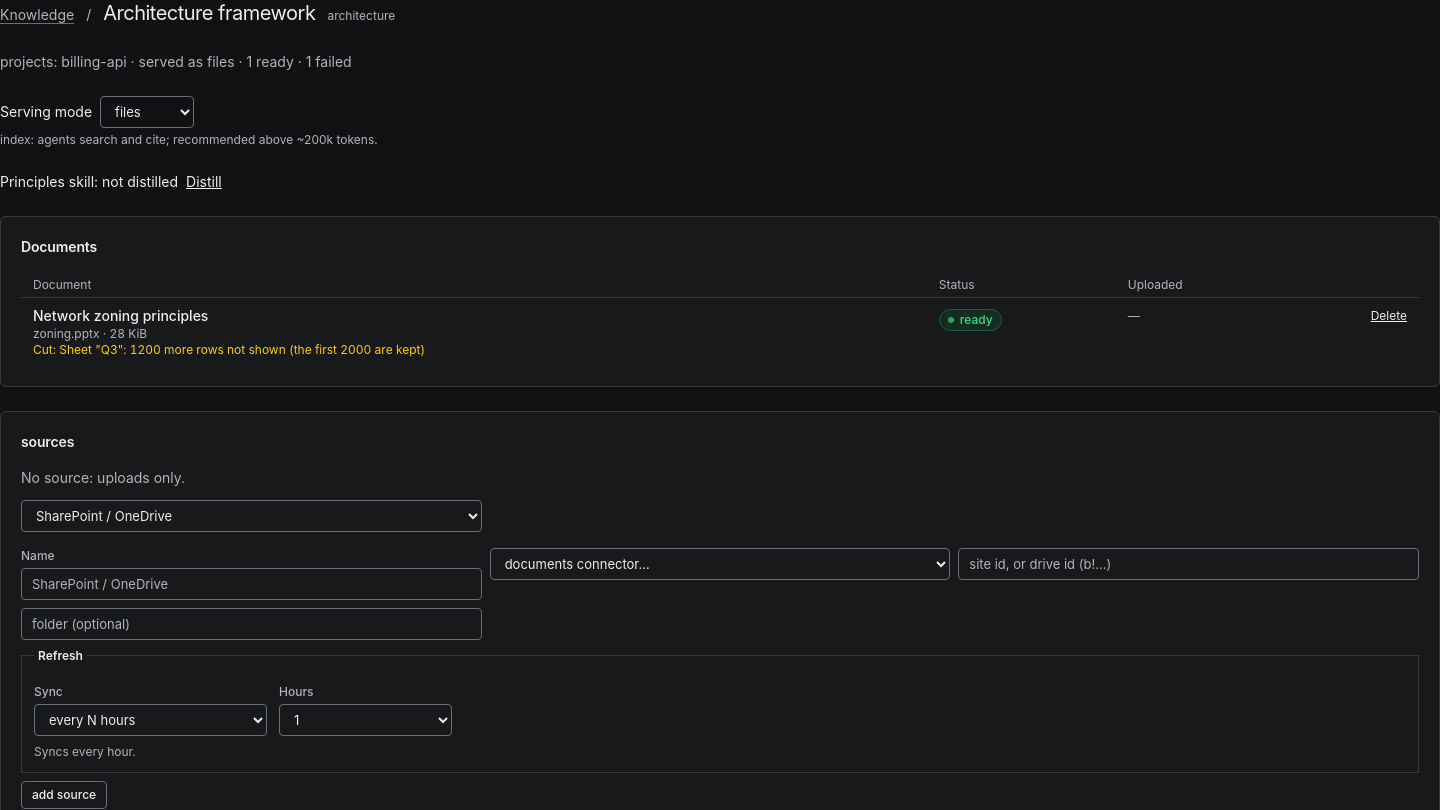
the knowledge page (S33-01) › says which sheets of a ready document were cut, in the list and where it is read (S42-09e)
Click the button "Network zoning principles".
click(121, 316)  # box [33,306,208,326]
(page scrolled)
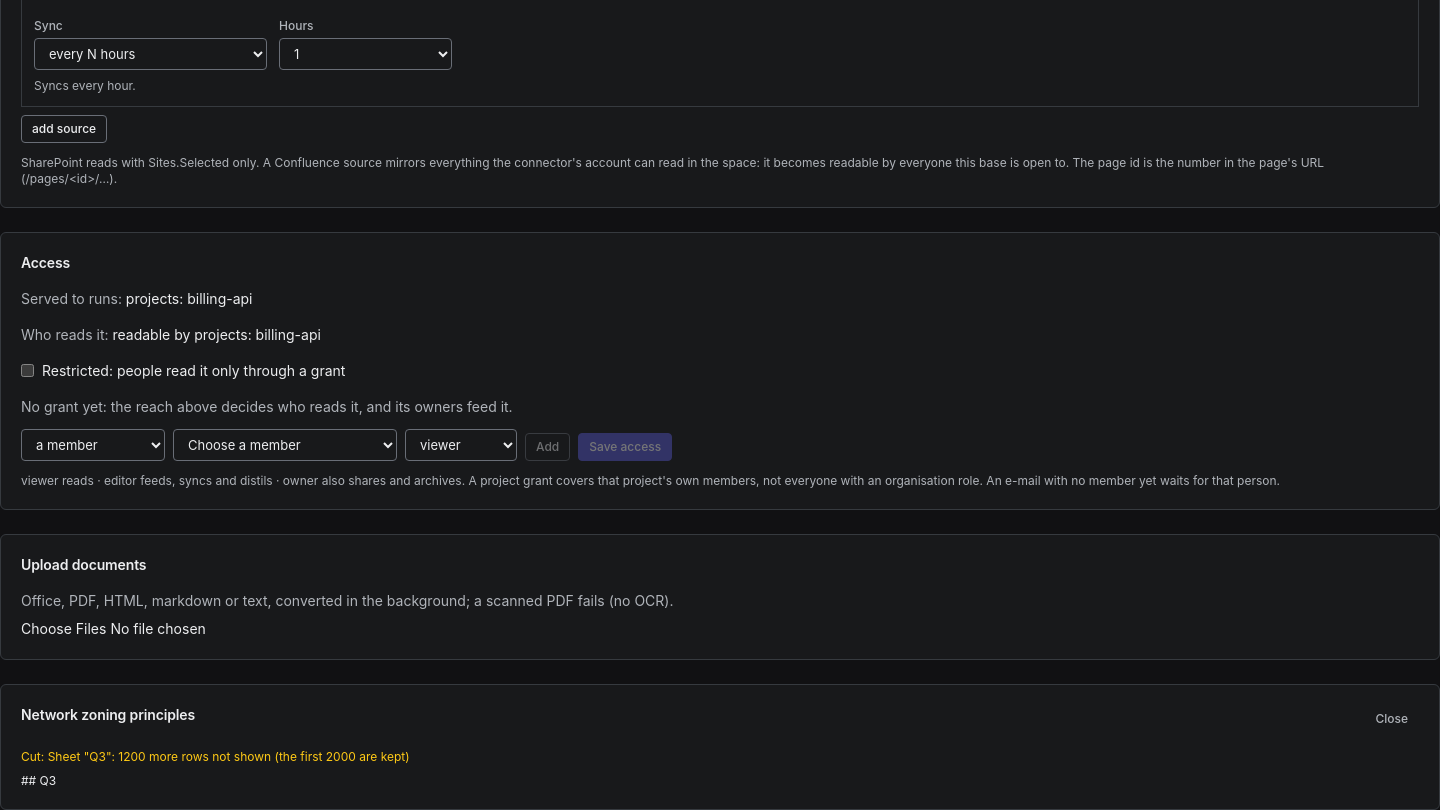
Expected: the text with test id "knowledge-document-warning" shows "1200 more rows not shown", [48,748,410,764]
